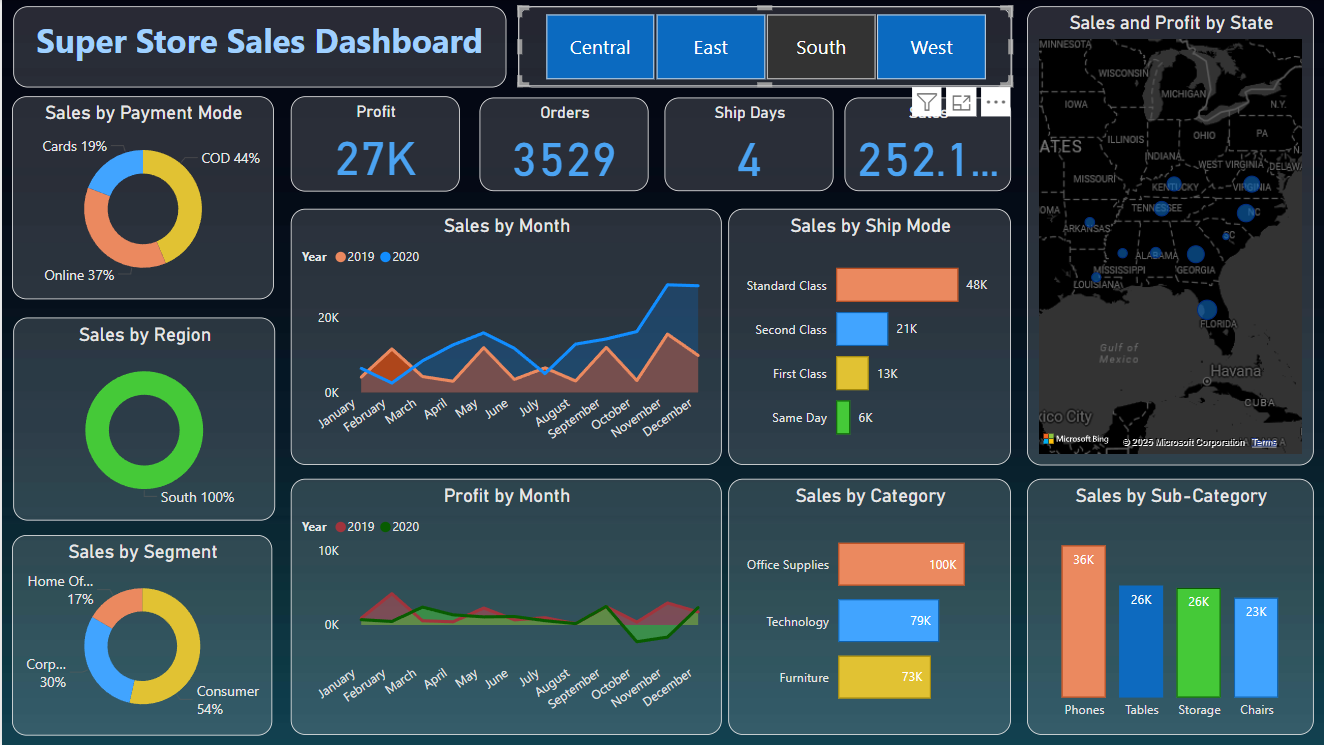

This screenshot's page, from the dashboard's own definition file:
{"tool":"powerbi","page":{"name":"Page 1","canvas":[1280,720],"ordinal":0},"visuals":[{"type":"clusteredBarChart","title":"Sales by Category","fields":{"Category":["Sheet1.Category"],"Y":["Sum(Sheet1.Sales)"]},"box":[701.2,462.4,273.1,247],"z":0},{"type":"clusteredColumnChart","title":"Sales by Sub-Category","fields":{"Category":["Sheet1.Sub-Category"],"Y":["Sum(Sheet1.Sales)"]},"box":[989.4,462.4,277.2,247],"z":1000},{"type":"clusteredBarChart","title":"Sales by Ship Mode","fields":{"Category":["Sheet1.Ship Mode"],"Y":["Sum(Sheet1.Sales)"]},"box":[701.2,201.7,273.1,247],"z":2000},{"type":"areaChart","title":"Sales by Month","fields":{"Series":["Sheet1.Order Date.Variation.Date Hierarchy.Year"],"Category":["Sheet1.Order Date.Variation.Date Hierarchy.Month","Sheet1.Order Date.Variation.Date Hierarchy.Day"],"Y":["Sum(Sheet1.Sales)"]},"box":[278.6,201.7,415.8,247],"z":3000},{"type":"areaChart","title":"Profit by Month ","fields":{"Category":["Sheet1.Order Date.Variation.Date Hierarchy.Month","Sheet1.Order Date.Variation.Date Hierarchy.Day"],"Y":["Sum(Sheet1.Profit)"],"Series":["Sheet1.Order Date.Variation.Date Hierarchy.Year"]},"box":[278.6,462.4,415.8,247],"z":4000},{"type":"map","title":"Sales and Profit by State","fields":{"Category":["Sheet1.State"],"Size":["Sum(Sheet1.Sales)"]},"box":[989.4,5.5,277.2,443.2],"z":5000},{"type":"donutChart","title":"Sales by Segment","fields":{"Category":["Sheet1.Segment"],"Y":["Sum(Sheet1.Sales)"]},"box":[9.6,516,251.1,193.5],"z":6000},{"type":"donutChart","title":"Sales by Payment Mode","fields":{"Category":["Sheet1.Payment Mode"],"Y":["Sum(Sheet1.Sales)"]},"box":[9.6,93.3,252.5,196.2],"z":7000},{"type":"donutChart","title":"Sales by Region","fields":{"Category":["Sheet1.Region"],"Y":["Sum(Sheet1.Sales)"]},"box":[11,306,252.5,196.2],"z":8000},{"type":"slicer","fields":{"Values":["Sheet1.Region"]},"box":[498.1,5.5,476.2,78.2],"z":9000},{"type":"textbox","box":[11,5.5,476.2,78.2],"z":10000},{"type":"card","title":"Sales","fields":{"Values":["Sum(Sheet1.Sales)"]},"box":[813.7,94.7,160.5,90.6],"z":11000},{"type":"card","title":"Orders","fields":{"Values":["Sum(Sheet1.Quantity)"]},"box":[461.1,94.7,163.3,90.6],"z":12000},{"type":"card","title":"Profit","fields":{"Values":["Sum(Sheet1.Profit)"]},"box":[278.6,93.3,163.3,91.9],"z":13000},{"type":"card","title":"Ship Days","fields":{"Values":["Avg(Sheet1.AvgDelivery)"]},"box":[639.5,94.7,163.3,90.6],"z":14000}]}

Visuals, with their boxes in screenshot pixels (x1, y1, x2, y2), scaled from the page's 1280x720 canvas onto the 1324x745 screenshot:
"Sales by Category" clusteredBarChart: pyautogui.locateOnScreen(725, 478, 1008, 734)
"Sales by Sub-Category" clusteredColumnChart: pyautogui.locateOnScreen(1023, 478, 1310, 734)
"Sales by Ship Mode" clusteredBarChart: pyautogui.locateOnScreen(725, 209, 1008, 464)
"Sales by Month" areaChart: pyautogui.locateOnScreen(288, 209, 718, 464)
"Profit by Month " areaChart: pyautogui.locateOnScreen(288, 478, 718, 734)
"Sales and Profit by State" map: pyautogui.locateOnScreen(1023, 6, 1310, 464)
"Sales by Segment" donutChart: pyautogui.locateOnScreen(10, 534, 270, 734)
"Sales by Payment Mode" donutChart: pyautogui.locateOnScreen(10, 97, 271, 300)
"Sales by Region" donutChart: pyautogui.locateOnScreen(11, 317, 273, 520)
slicer - Sheet1.Region: pyautogui.locateOnScreen(515, 6, 1008, 87)
textbox: pyautogui.locateOnScreen(11, 6, 504, 87)
"Sales" card: pyautogui.locateOnScreen(842, 98, 1008, 192)
"Orders" card: pyautogui.locateOnScreen(477, 98, 646, 192)
"Profit" card: pyautogui.locateOnScreen(288, 97, 457, 192)
"Ship Days" card: pyautogui.locateOnScreen(661, 98, 830, 192)
